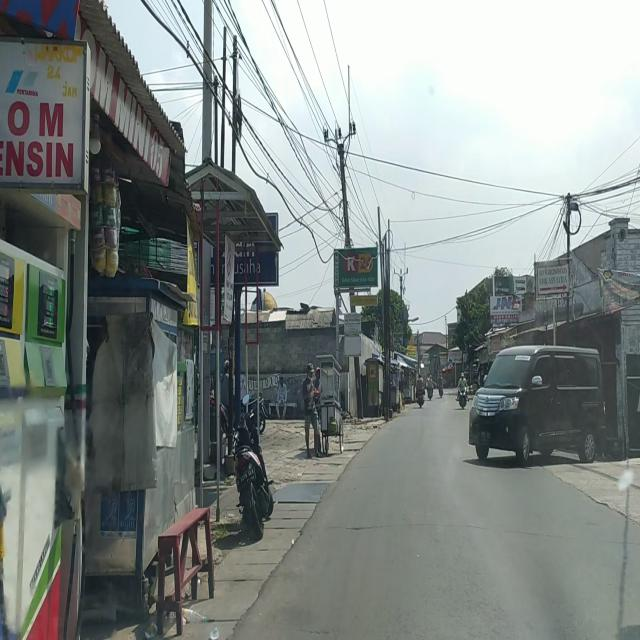Sewer Cover: (334, 521, 540, 540)
